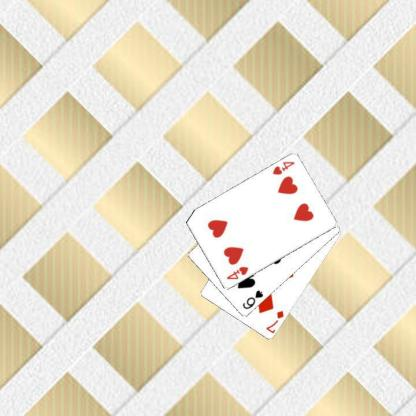4H: (224, 264, 250, 281), (270, 159, 296, 176)
6S: (240, 288, 264, 311)
7D: (263, 308, 285, 334)
